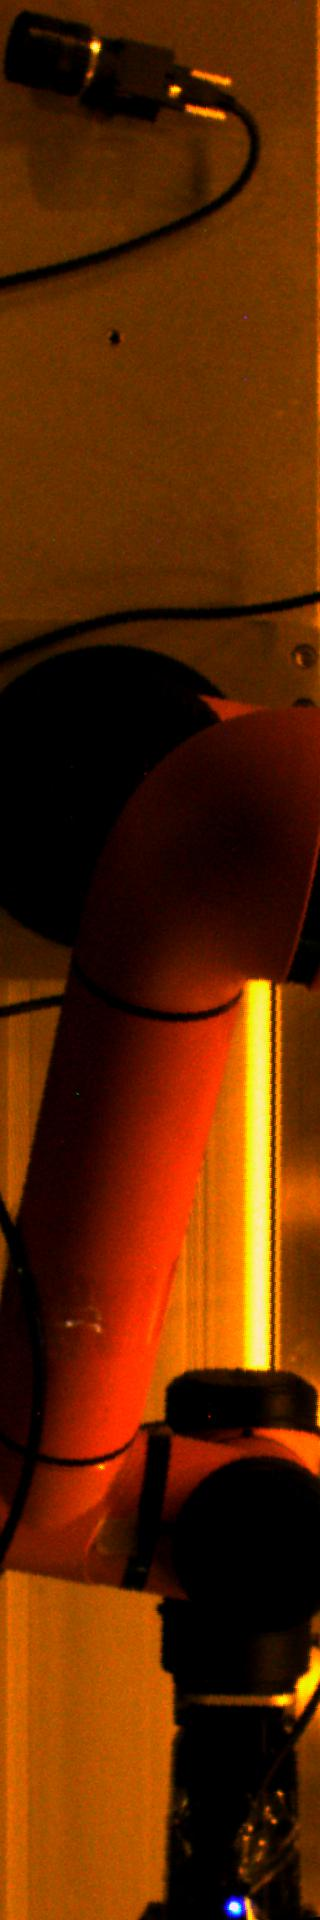keyPoint_2: (99, 324, 129, 355)
